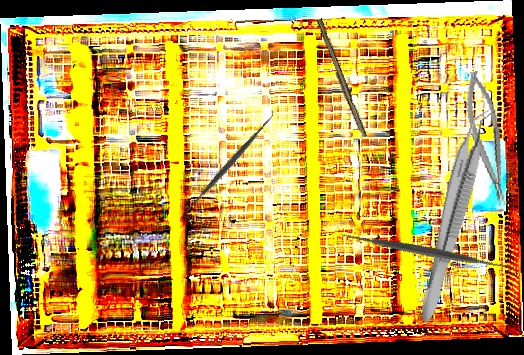Needle Holder: (459, 68, 514, 210)
Scalpel Handle: (313, 18, 369, 139)
Spatula Surgical: (336, 162, 515, 341), (178, 108, 281, 221)
Tissue Forceps: (416, 103, 496, 328)
